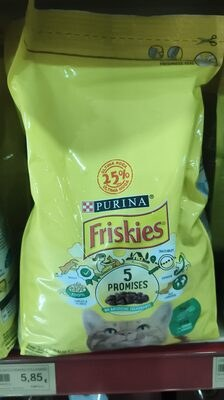Friskoes gato conejo y pollo 1.5kg: (11, 20, 213, 380)
